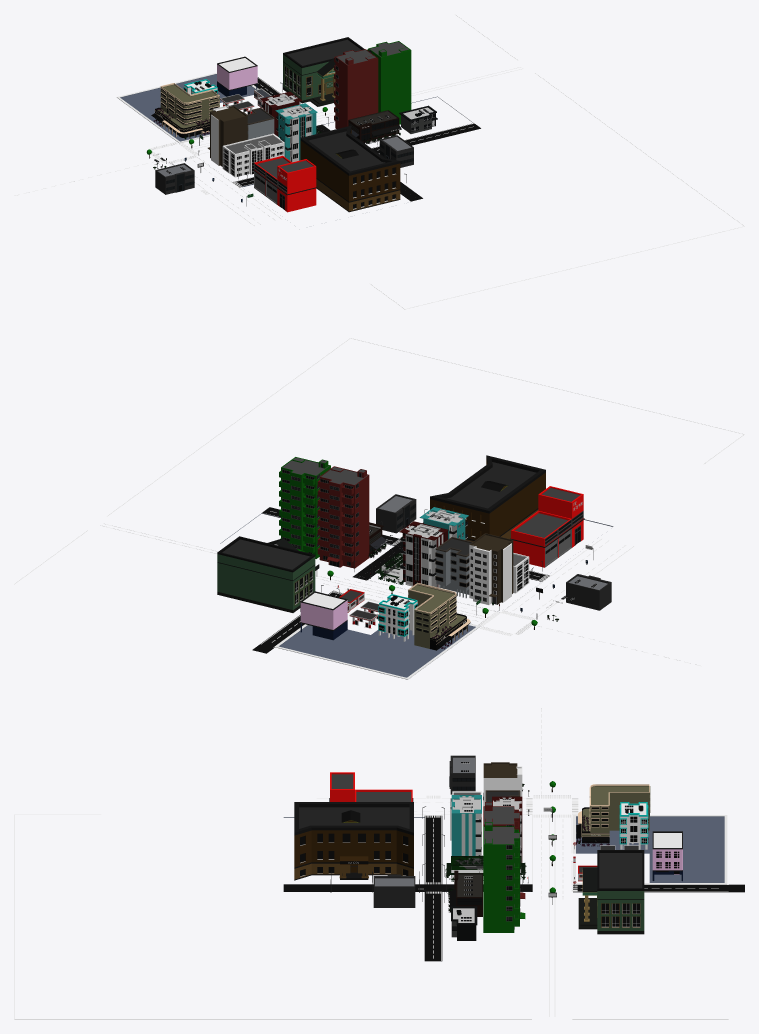
The model's file is city_inner.glb.
3 renders of one model, top to bottom at view 1: azimuth 30°, elevation 25°; view 2: azimuth 150°, elevation 25°; view 3: azimuth 270°, elevation 25°, orthographic. The views are drawn at different scales.
Parts seen in each view (by area): view 1: Cube437, Cube440, Cube434, Cube428, Cube026, Cube441, Cube391, Cube392, Plane103, Cube102, Cube426, Cube254 (+7 smaller); view 2: Cube434, Cube437, Plane103, Cube440, Cube428, Cube441, Cube102, Cube026, Cube001, Cube426, Cube103, Cube107 (+6 smaller); view 3: Cube437, Plane103, Cube434, Cube441, Cube026, Cube392, Cube428, Cube460, Cube426, Cube432, Cube260, Cube107 (+10 smaller).
Boxes of the visible parts, left/top/right/bottom form: Cube437: left=300, top=125, right=400, bottom=212; Cube440: left=334, top=49, right=378, bottom=128; Cube434: left=283, top=37, right=364, bottom=106; Cube428: left=253, top=155, right=317, bottom=212; Cube026: left=151, top=83, right=219, bottom=138; Cube441: left=367, top=41, right=411, bottom=124; Cube391: left=222, top=133, right=284, bottom=177; Cube392: left=275, top=103, right=317, bottom=162; Plane103: left=116, top=72, right=257, bottom=143; Cube102: left=208, top=105, right=247, bottom=166; Cube426: left=217, top=56, right=257, bottom=96; Cube254: left=348, top=110, right=401, bottom=143; Cube434: left=217, top=536, right=315, bottom=612; Cube437: left=430, top=455, right=545, bottom=541; Plane103: left=275, top=598, right=480, bottom=679; Cube440: left=317, top=466, right=369, bottom=568; Cube428: left=510, top=486, right=584, bottom=567; Cube441: left=279, top=457, right=330, bottom=558; Cube102: left=469, top=533, right=513, bottom=604; Cube026: left=408, top=582, right=470, bottom=650; Cube001: left=399, top=521, right=448, bottom=587; Cube426: left=300, top=591, right=347, bottom=640; Cube103: left=435, top=537, right=472, bottom=598; Cube107: left=378, top=594, right=417, bottom=641; Cube437: left=294, top=802, right=413, bottom=880; Plane103: left=573, top=815, right=727, bottom=884; Cube434: left=578, top=850, right=644, bottom=934; Cube441: left=483, top=822, right=525, bottom=932; Cube026: left=576, top=784, right=650, bottom=843; Cube392: left=451, top=795, right=481, bottom=855; Cube428: left=329, top=772, right=413, bottom=801; Cube460: left=373, top=874, right=415, bottom=907; Cube426: left=652, top=831, right=682, bottom=881; Cube432: left=424, top=891, right=442, bottom=961; Cube260: left=424, top=815, right=442, bottom=884; Cube107: left=619, top=802, right=648, bottom=849.
Bounding box in the file's own units: 3561 × 505 × 3538.
